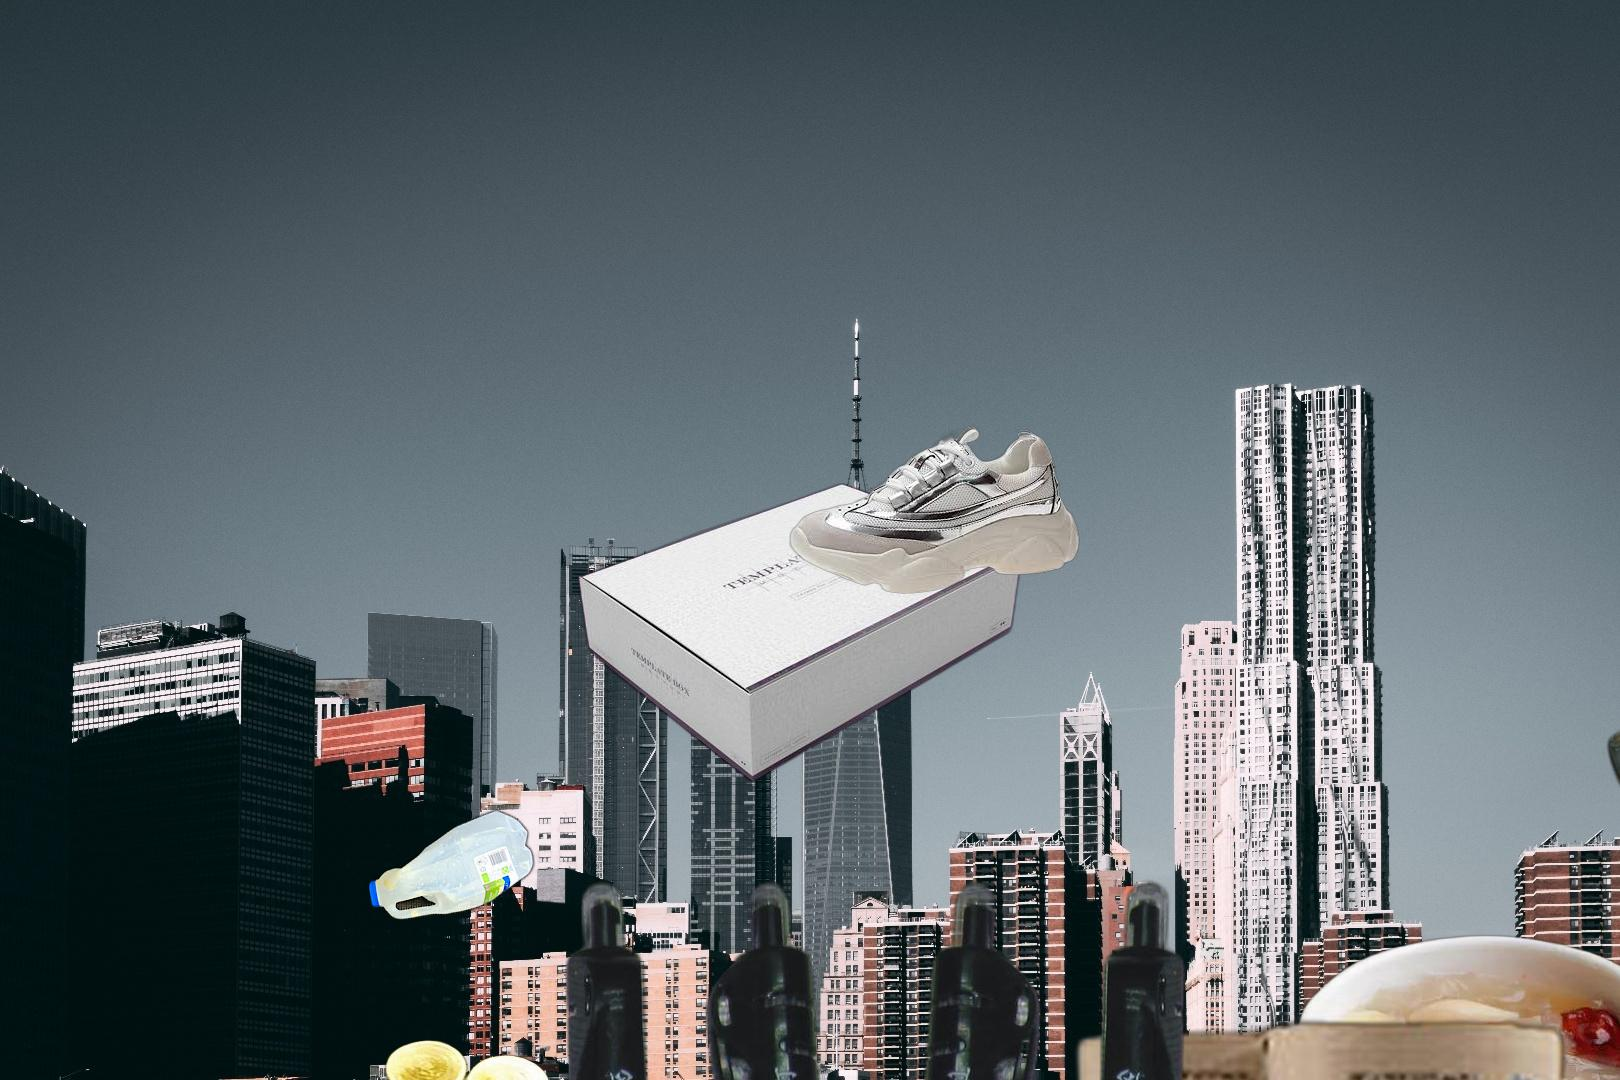biological: (1293, 932, 1620, 1080), (215, 1037, 632, 1080)
glass: (1538, 626, 1620, 1080)
penholder: (559, 874, 1191, 1080)
plastic-bottles: (364, 805, 539, 926)
shoes: (790, 424, 1080, 595)
trashbox-cardboard: (1066, 803, 1620, 1080), (573, 480, 1027, 783)
